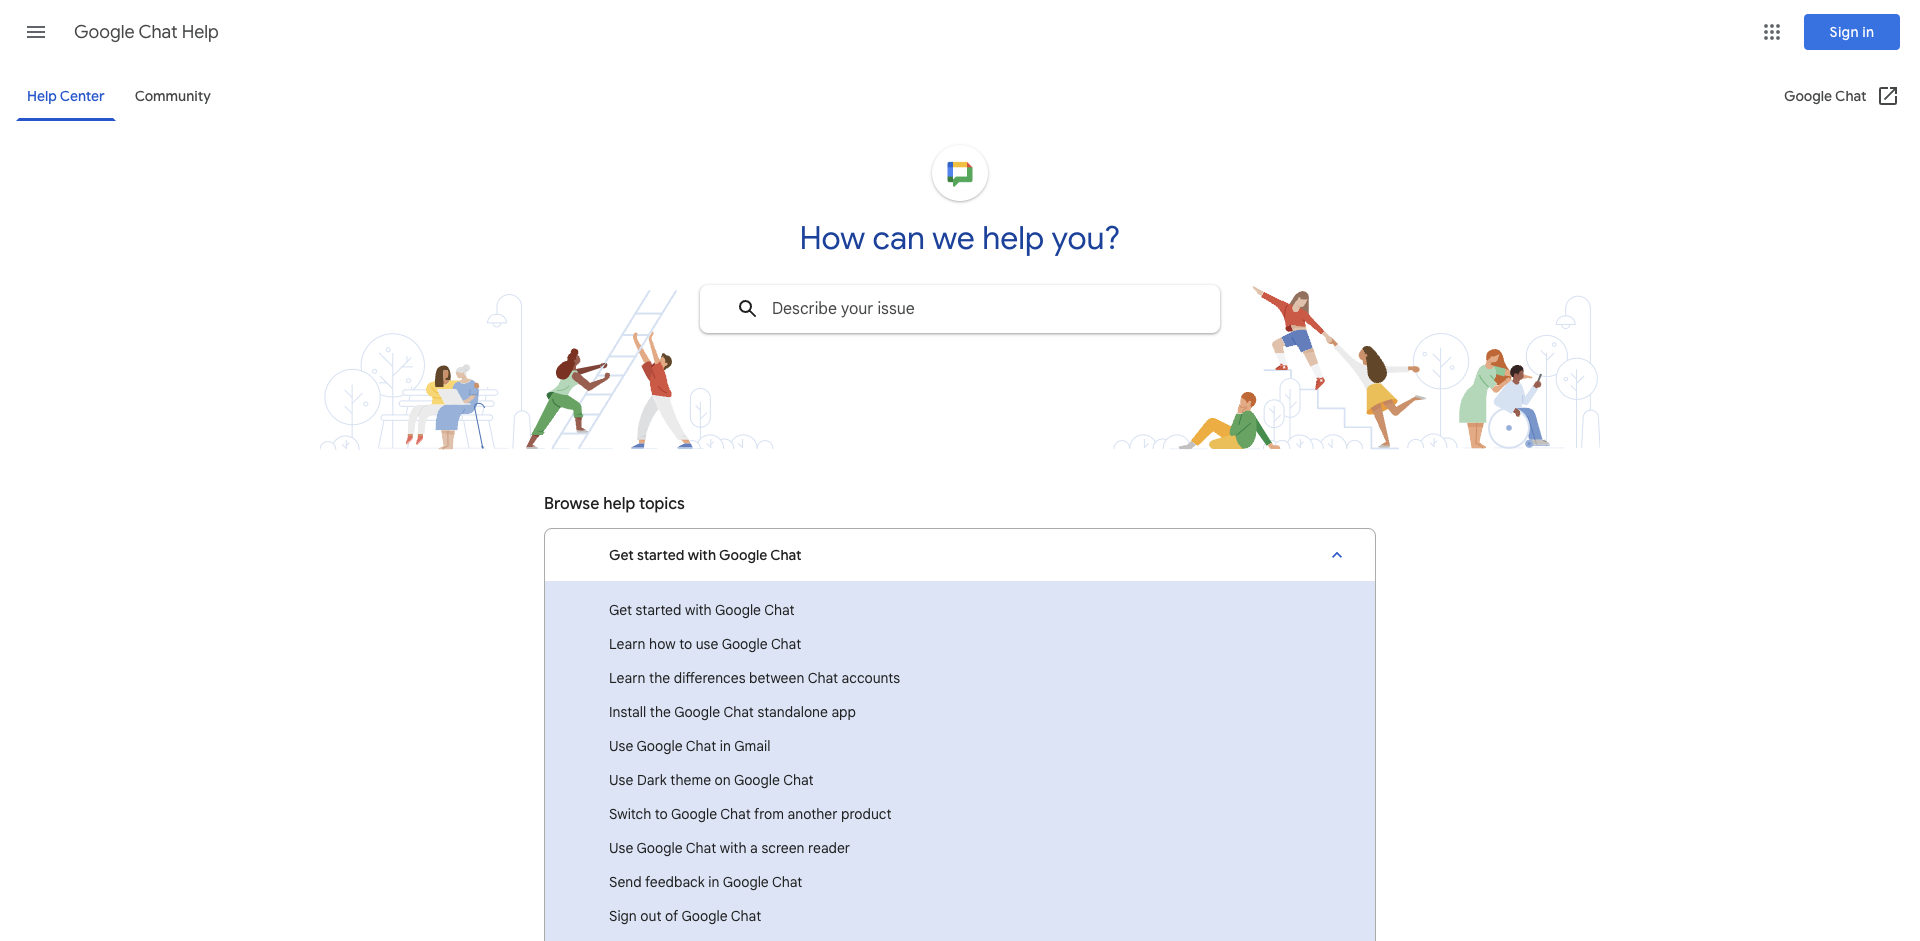button: (545, 529, 1375, 581), (12, 9, 60, 56), (724, 285, 771, 333), (1752, 12, 1791, 51)
icon: (1768, 72, 1916, 121)
input: (700, 285, 1220, 333)
link: (0, 145, 1920, 201), (545, 593, 1375, 627), (545, 660, 1375, 695), (545, 695, 1375, 729), (545, 729, 1375, 763), (545, 796, 1375, 831), (545, 831, 1375, 865), (545, 865, 1375, 899), (545, 627, 1375, 660), (545, 763, 1375, 796), (545, 899, 1375, 932), (72, 9, 220, 58), (545, 932, 1375, 941), (1784, 72, 1900, 121), (16, 72, 115, 121), (124, 72, 222, 120), (1804, 13, 1900, 50)
